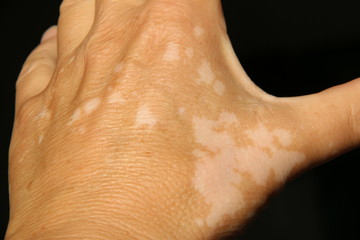vitiligo: (87, 29, 278, 209)
